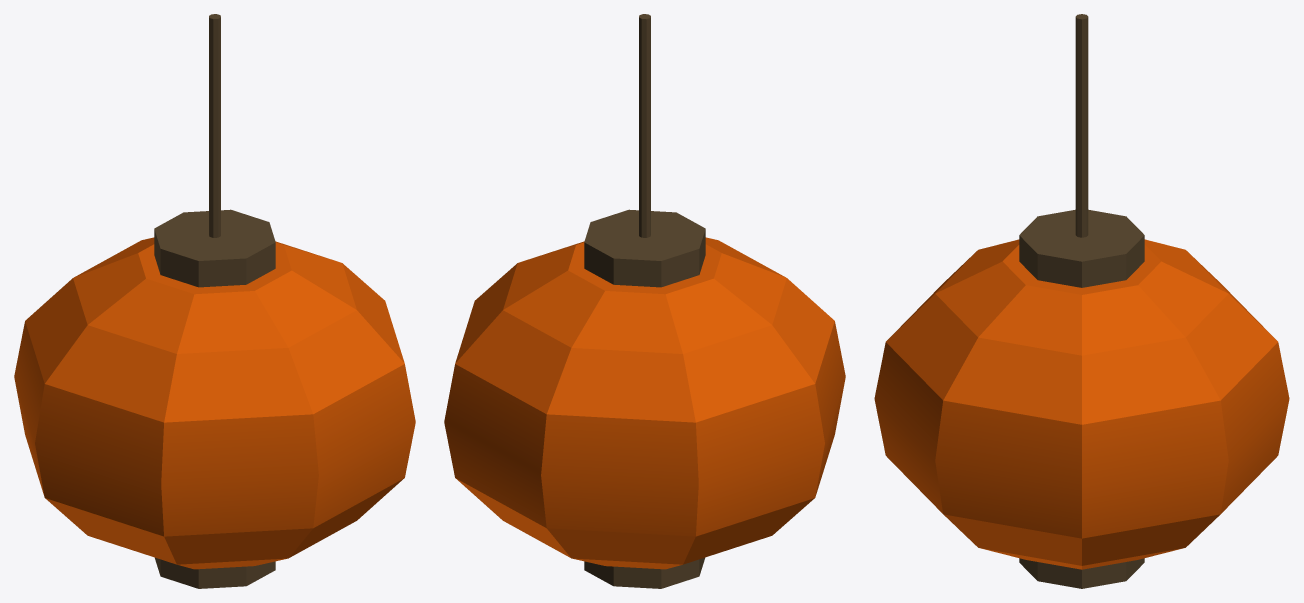
The model's file is Lantern.fbx.
3 views of the same model, side by side, from view 1: azimuth 30°, elevation 25°; view 2: azimuth 150°, elevation 25°; view 3: azimuth 270°, elevation 25° (orthographic).
Visible parts, largest first — view 1: polySurface29, polySurface30, polySurface31; view 2: polySurface29, polySurface30, polySurface31; view 3: polySurface29, polySurface30, polySurface31.
Part boxes in pixels (x1,y1,x2,y2): polySurface29: (14,237,415,569); polySurface30: (154,14,275,287); polySurface31: (155,557,275,588); polySurface29: (444,237,845,569); polySurface30: (584,14,705,287); polySurface31: (584,557,704,588); polySurface29: (874,239,1289,569); polySurface30: (1019,14,1144,287); polySurface31: (1019,558,1144,588).
Size of the model in its own units: 0.462 by 0.6702 by 0.462.
